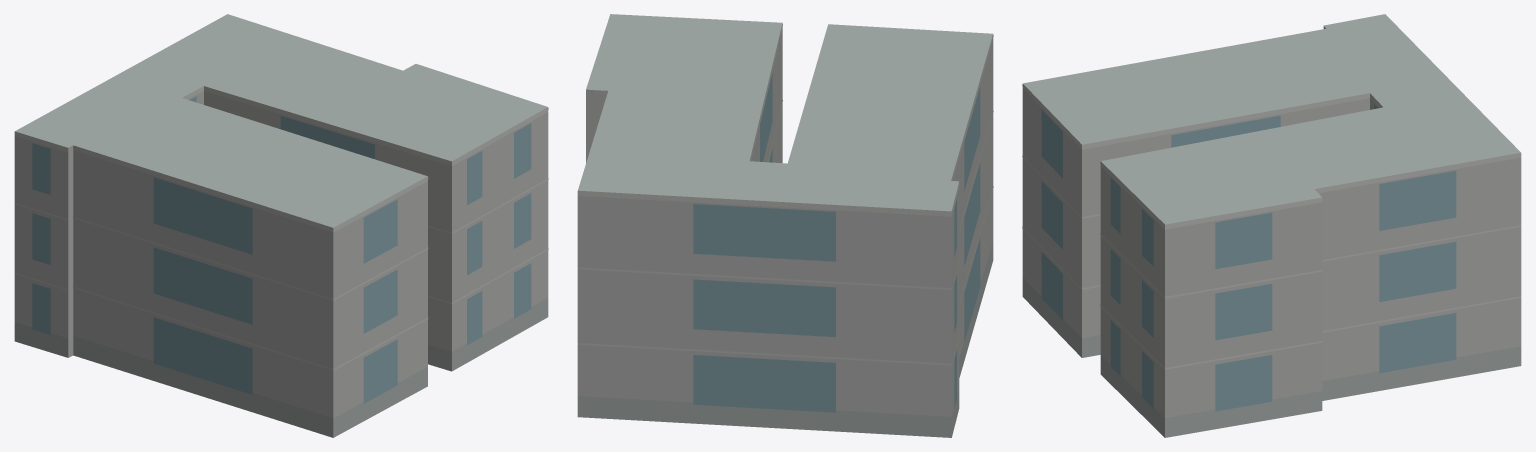
The model's file is survey-upis-32743486.glb.
The picture shows the model from 3 angles, left to right: view 1: azimuth 30°, elevation 25°; view 2: azimuth 150°, elevation 25°; view 3: azimuth 270°, elevation 25°; orthographic projection. The views are drawn at different scales.
Visible parts, largest first — view 1: survey-upis-32743486.tmp; view 2: survey-upis-32743486.tmp; view 3: survey-upis-32743486.tmp.
Part boxes in pixels (x1=…): survey-upis-32743486.tmp: x1=14, y1=14, x2=548, y2=437; survey-upis-32743486.tmp: x1=577, y1=14, x2=993, y2=437; survey-upis-32743486.tmp: x1=1022, y1=14, x2=1521, y2=437.
Size of the model in its own units: 22.05 by 10.4 by 22.06.
